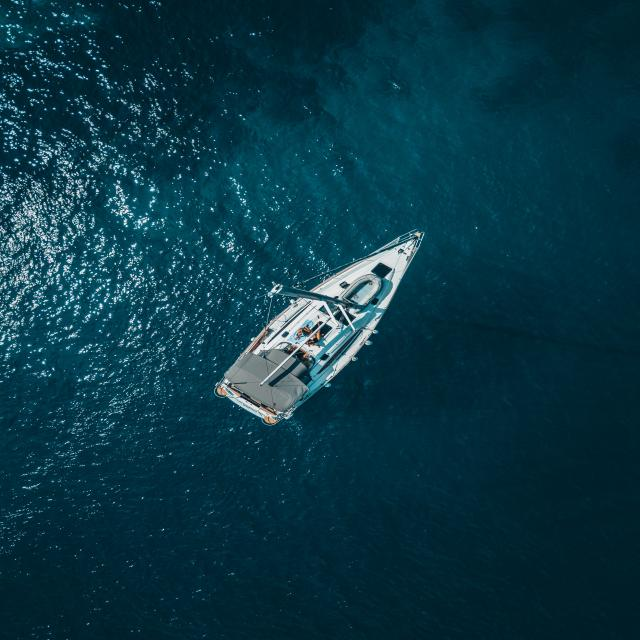ship: (205, 219, 458, 434)
